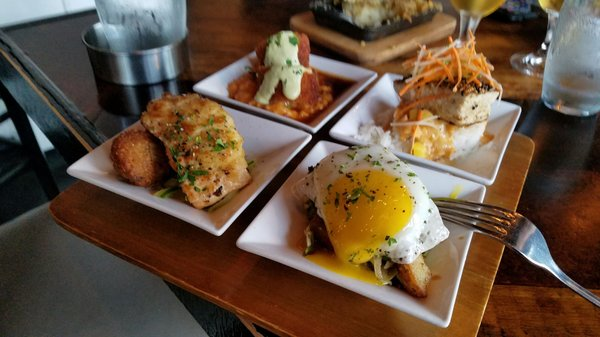soup: (137, 92, 252, 210)
